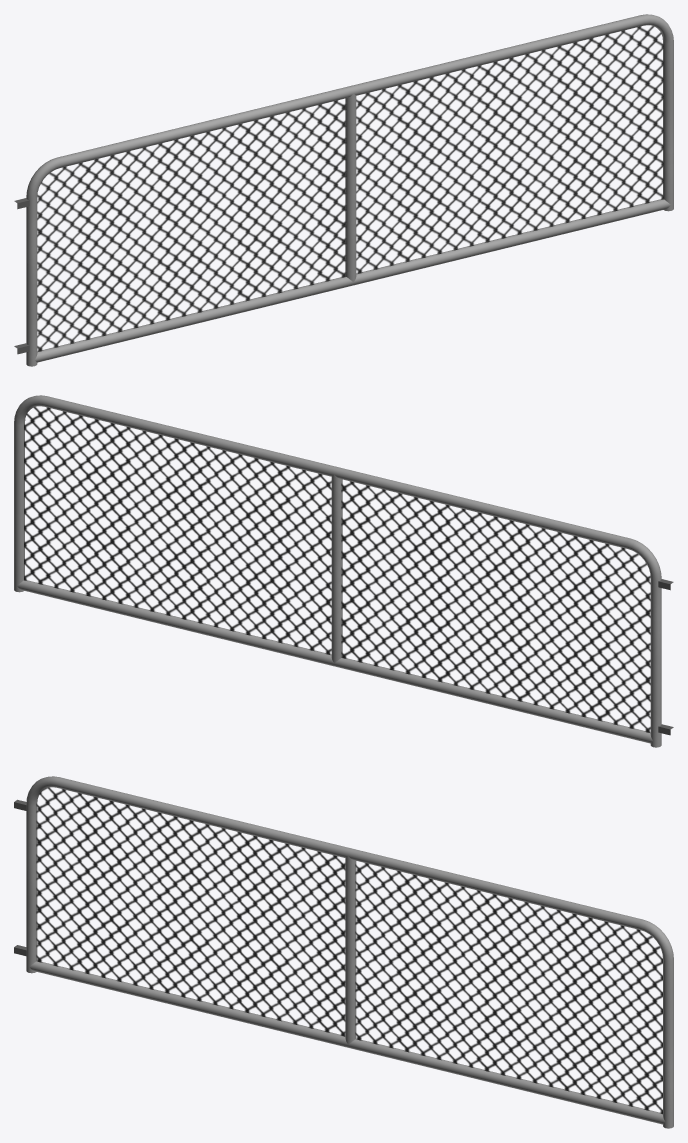
Rendered from fence-chainlink-gate-3m-noPost-cbj_LOD00.gltf.
3 renders of one model, top to bottom at view 1: azimuth 30°, elevation 25°; view 2: azimuth 150°, elevation 25°; view 3: azimuth 330°, elevation 25°, orthographic.
Parts seen in each view (by area): view 1: post.002; view 2: post.002; view 3: post.002.
Boxes of the visible parts, bbox=[...] form: post.002: bbox=[14, 14, 673, 366]; post.002: bbox=[14, 395, 673, 747]; post.002: bbox=[14, 776, 673, 1128].
Bounding box in the file's own units: 3.46 × 1 × 0.05.
